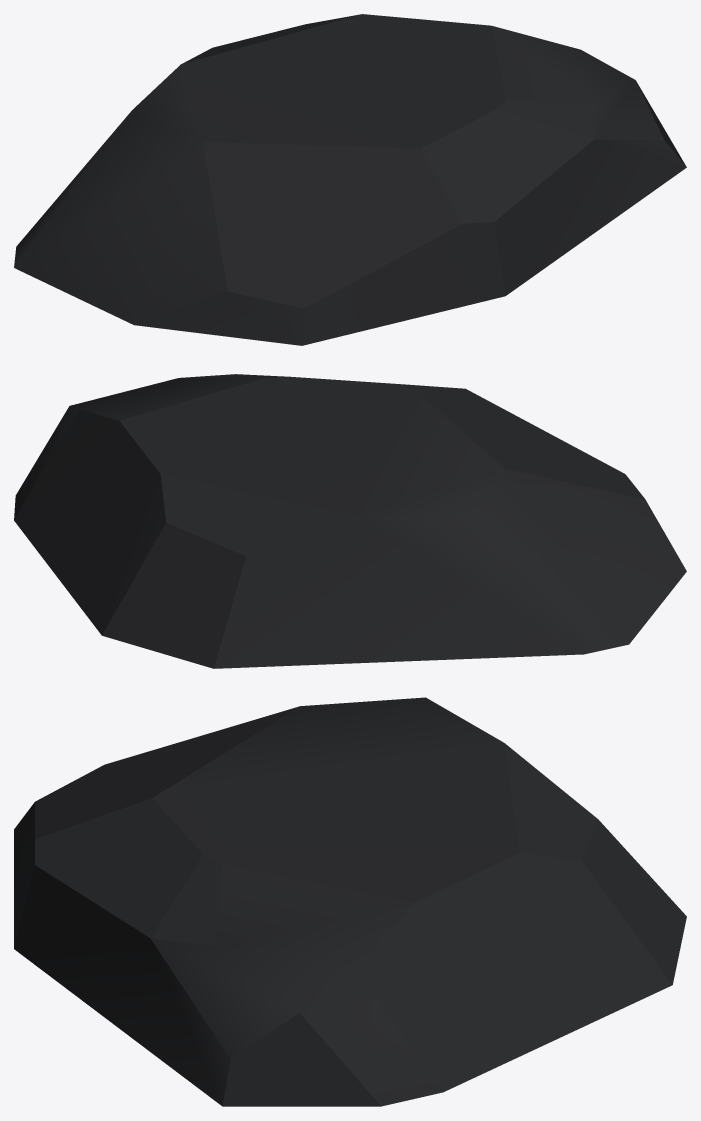
File: Rock_1.fbx
The picture shows the model from 3 angles, top to bottom: view 1: azimuth 30°, elevation 25°; view 2: azimuth 150°, elevation 25°; view 3: azimuth 270°, elevation 25°; orthographic projection. The views are drawn at different scales.
Visible parts, largest first — view 1: Rock_1; view 2: Rock_1; view 3: Rock_1.
Boxes of the visible parts, left/top/right/bottom form: Rock_1: left=14, top=14, right=686, bottom=345; Rock_1: left=14, top=374, right=686, bottom=668; Rock_1: left=14, top=697, right=686, bottom=1106.
Size of the model in its own units: 18.73 by 3.3 by 14.92.
